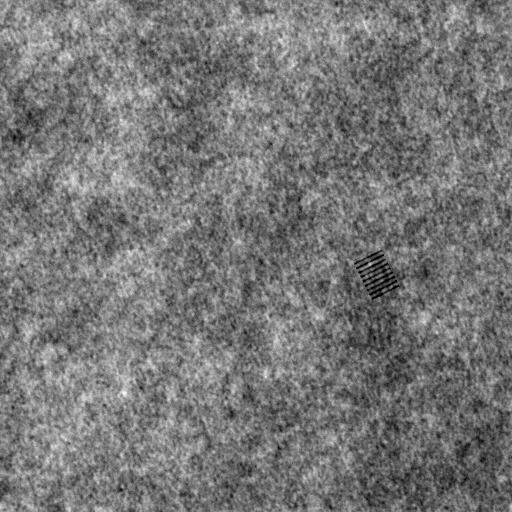DefectTypeB: (353, 250, 402, 296)
